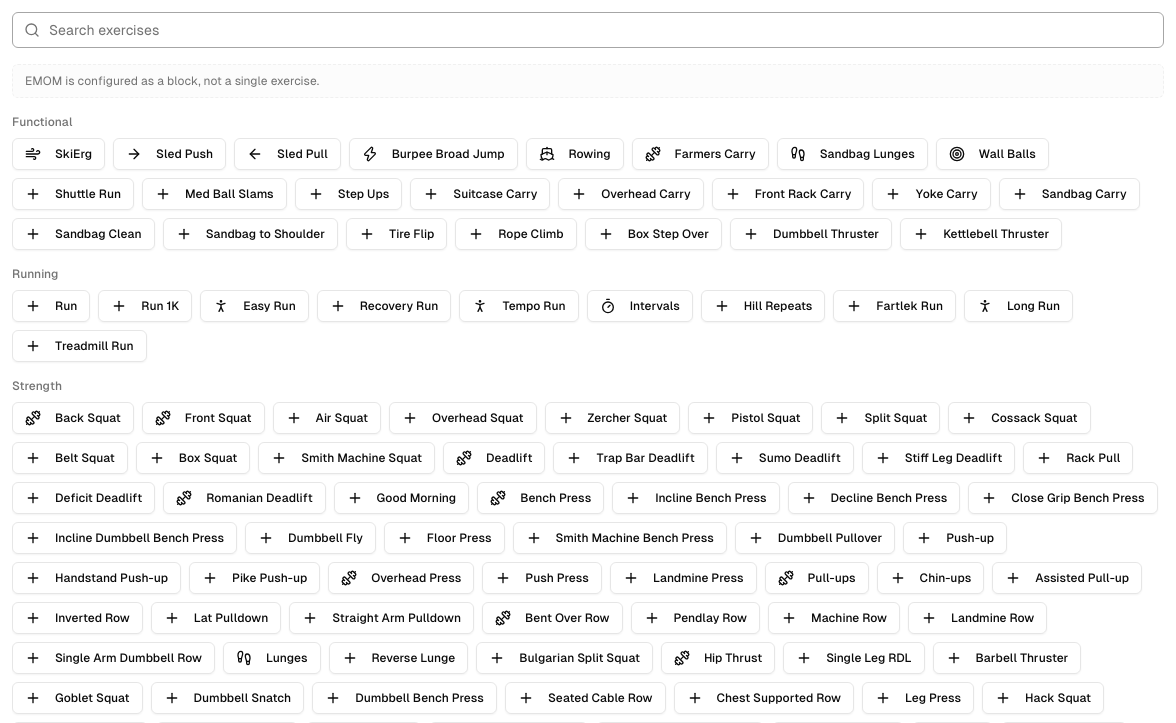
Test: ExerciseSelector › filters exercises by canonical key
Type "back_squat" into the search field labelled "Search exercises" at (588, 30), box [12,12,1164,48]
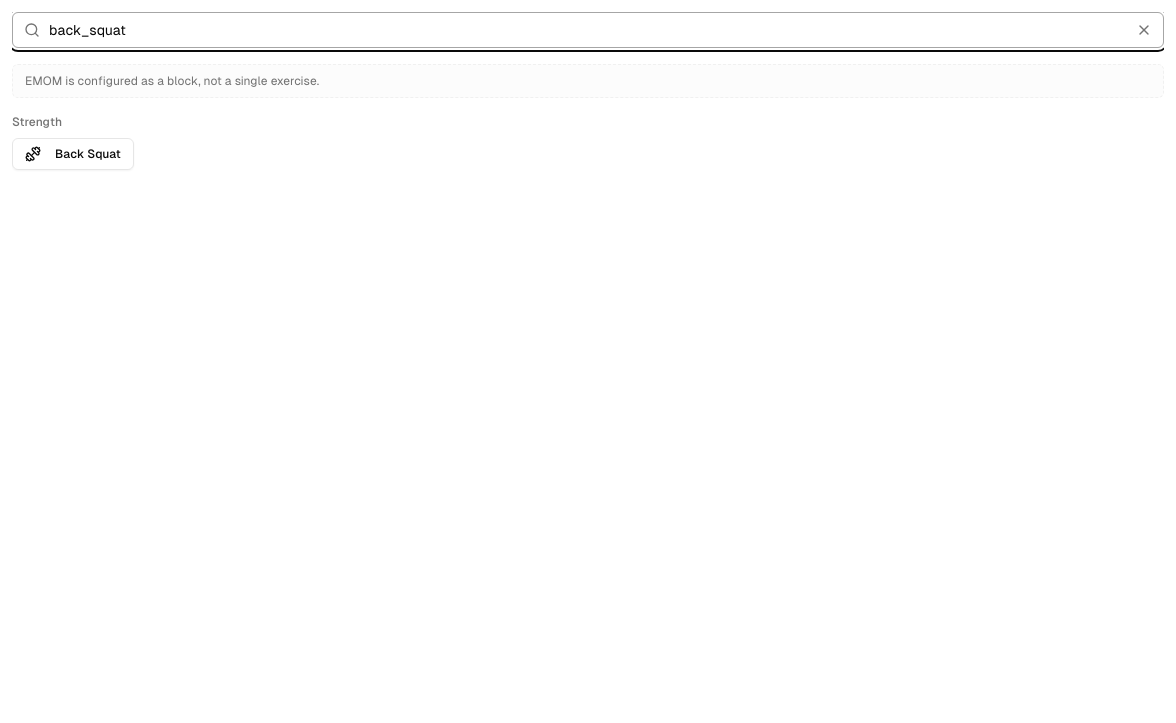
Expected: the button with test id "button-exercise-back_squat" reads "Back Squat", [12,138,134,170]
Now the button with test id "button-exercise-sled_push" is gone
